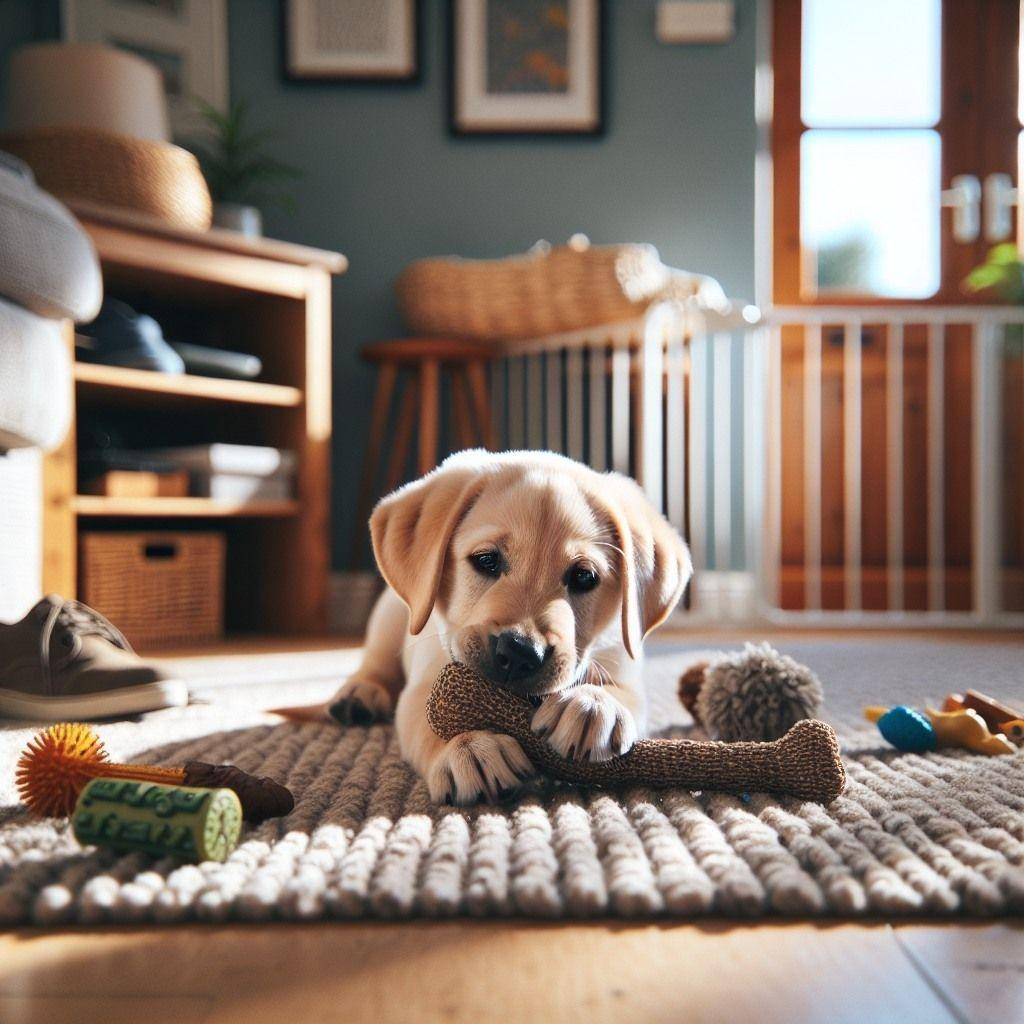puppy-dog: (320, 447, 694, 807)
